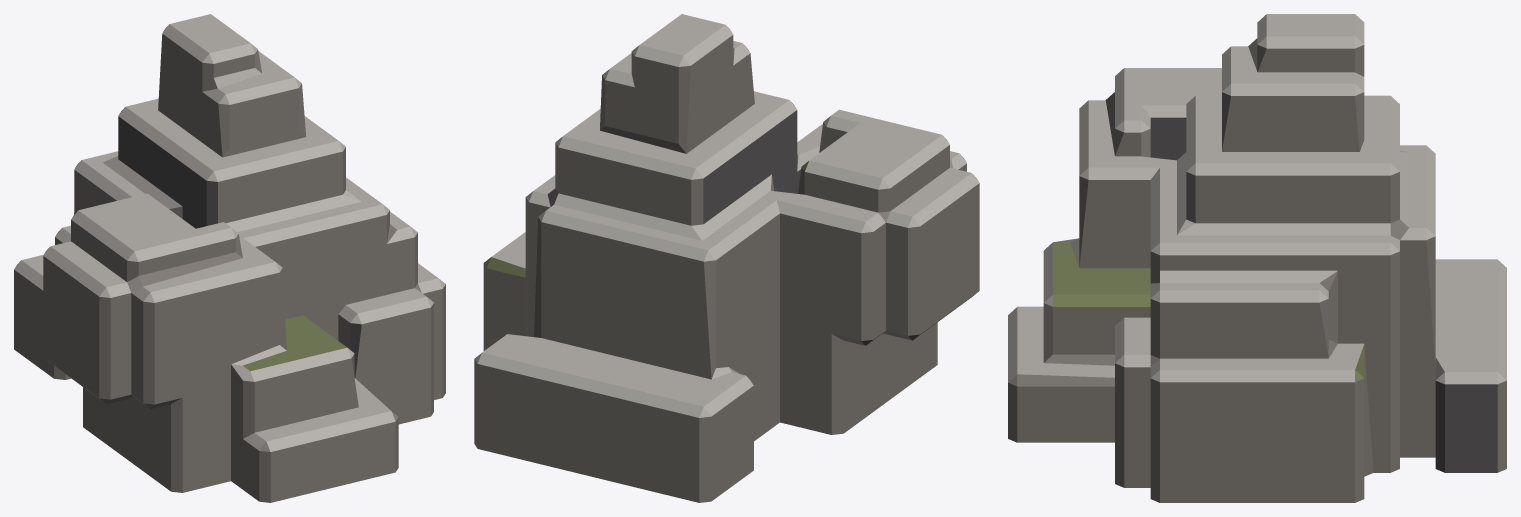
File: rock_stage1_var_3.glb
The picture shows the model from 3 angles, left to right: view 1: azimuth 30°, elevation 25°; view 2: azimuth 150°, elevation 25°; view 3: azimuth 270°, elevation 25°; orthographic projection. The views are drawn at different scales.
Visible parts, largest first — view 1: destructible_rock_stage_1_var_4_S, destructible_rock_stage_1_var_4_L, destructible_rock_stage_1_var_4_D, destructible_rock_stage_1_var_4_M; view 2: destructible_rock_stage_1_var_4_S, destructible_rock_stage_1_var_4_L, destructible_rock_stage_1_var_4_D; view 3: destructible_rock_stage_1_var_4_S, destructible_rock_stage_1_var_4_L, destructible_rock_stage_1_var_4_D, destructible_rock_stage_1_var_4_M.
Part boxes in pixels (<box>): destructible_rock_stage_1_var_4_S: <box>14,34,445,502</box>; destructible_rock_stage_1_var_4_L: <box>14,14,445,451</box>; destructible_rock_stage_1_var_4_D: <box>47,116,361,408</box>; destructible_rock_stage_1_var_4_M: <box>243,315,346,371</box>; destructible_rock_stage_1_var_4_S: <box>474,35,979,502</box>; destructible_rock_stage_1_var_4_L: <box>474,14,979,417</box>; destructible_rock_stage_1_var_4_D: <box>703,110,975,345</box>; destructible_rock_stage_1_var_4_S: <box>1008,44,1506,502</box>; destructible_rock_stage_1_var_4_L: <box>1008,14,1506,384</box>; destructible_rock_stage_1_var_4_D: <box>1150,117,1497,472</box>; destructible_rock_stage_1_var_4_M: <box>1053,242,1364,381</box>.
Size of the model in its own units: 1.95 by 1.8 by 2.1.
